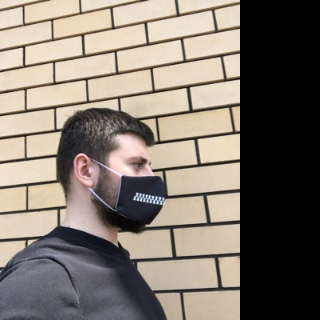with_mask: (114, 152, 165, 234)
